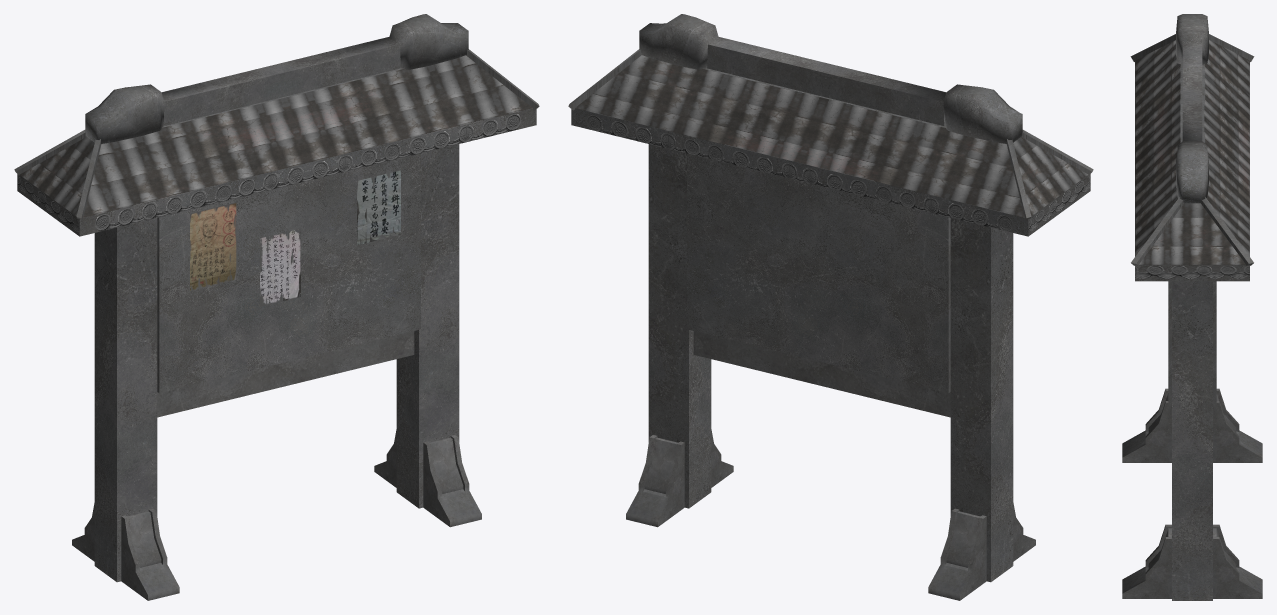
Rendered from Shipai_1.FBX.
3 renders of one model, left to right at view 1: azimuth 30°, elevation 25°; view 2: azimuth 150°, elevation 25°; view 3: azimuth 270°, elevation 25°, orthographic. The views are drawn at different scales.
Parts seen in each view (by area): view 1: Shipai_1; view 2: Shipai_1; view 3: Shipai_1.
Part boxes in pixels (left/top/right/bottom): Shipai_1: left=14, top=14, right=539, bottom=600; Shipai_1: left=568, top=14, right=1093, bottom=600; Shipai_1: left=1122, top=14, right=1262, bottom=600.
Bounding box in the file's own units: 91.54 × 90.27 × 26.06.
Materials: 1 (1 with a texture image).
